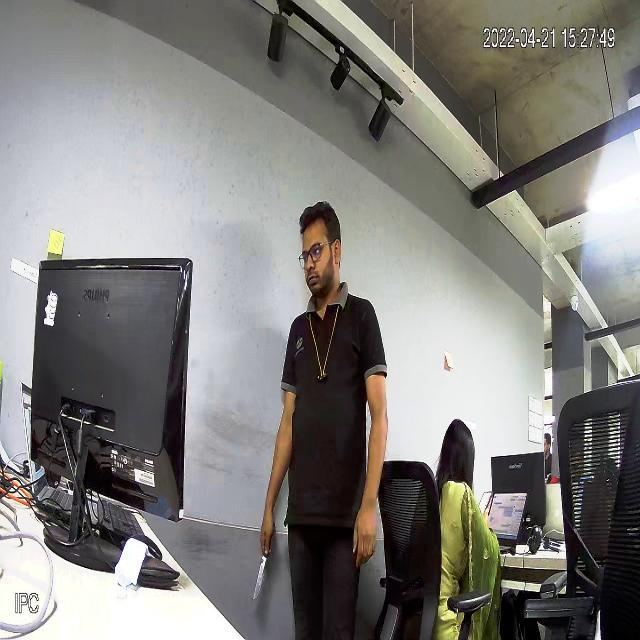Knife: (247, 537, 279, 609)
